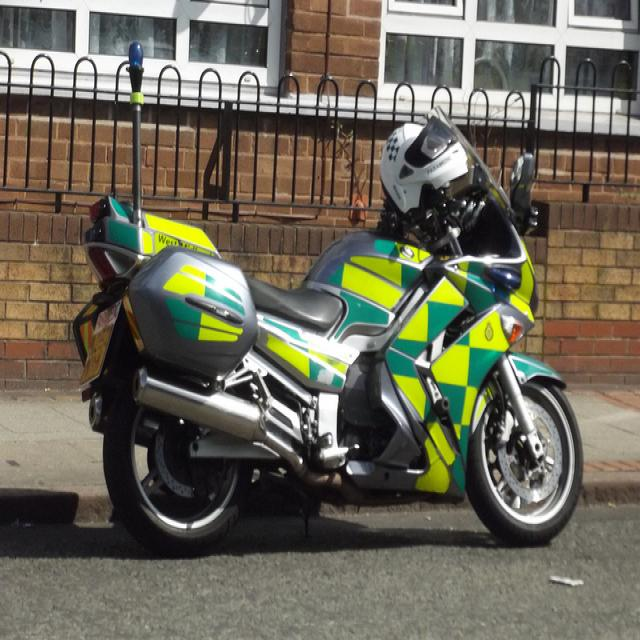motor: (77, 109, 580, 555)
